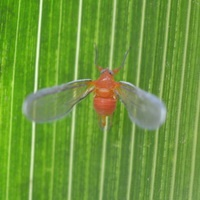insect: (22, 66, 165, 129)
